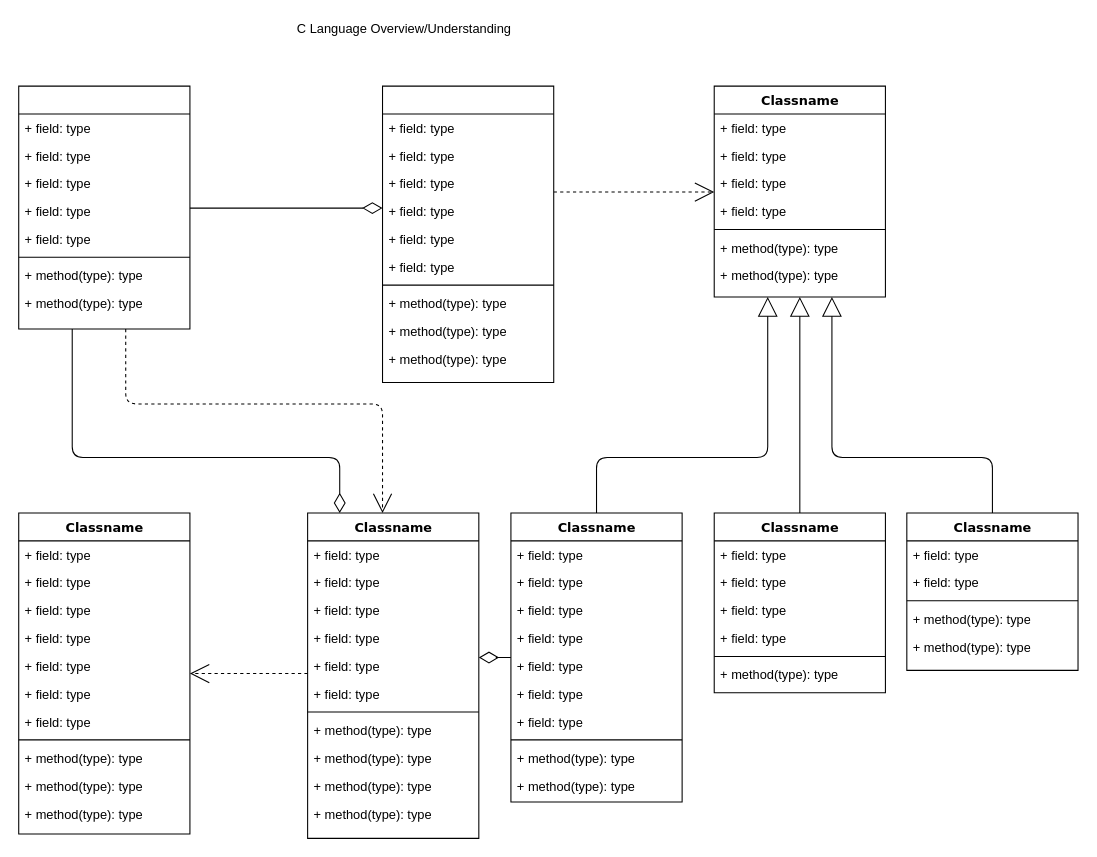
Some shapes in this 1097 by 857 pixel diagram are drawn without their labels. Each missing label, with the box of its shape:
Functions: (381, 85, 554, 383)
Headers: (18, 85, 190, 329)
